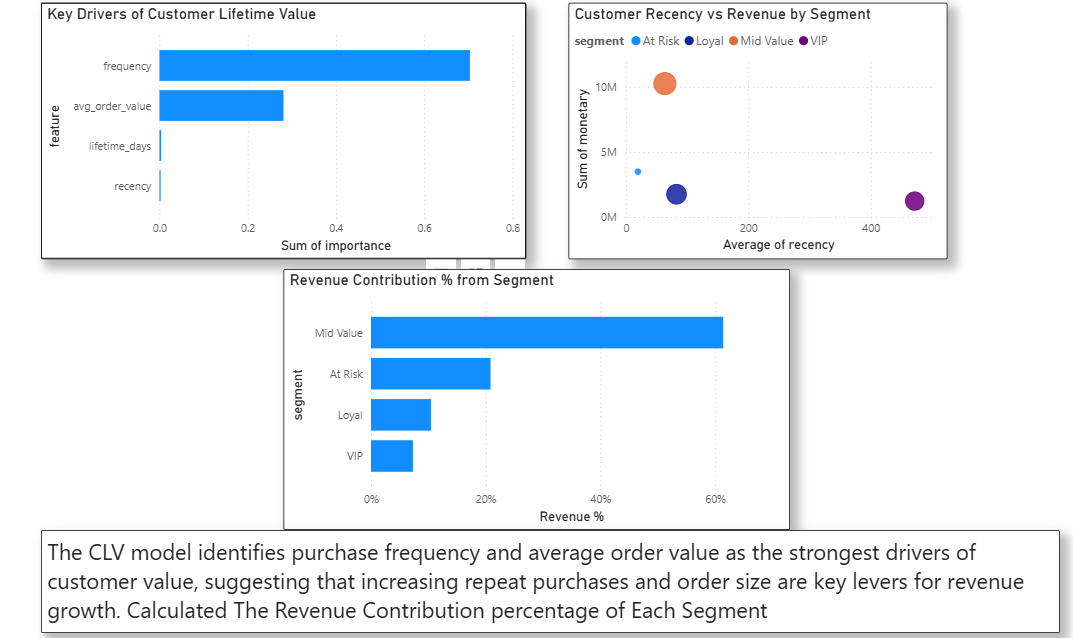

This screenshot's page, from the dashboard's own definition file:
{"tool":"powerbi","page":{"name":"CLV Insights","canvas":[1280,720],"ordinal":2},"visuals":[{"type":"clusteredBarChart","title":"Key Drivers of Customer Lifetime Value","fields":{"Category":["feature_importance.feature"],"Y":["Sum(feature_importance.importance)"]},"box":[60.4,15.1,532.4,281.3],"z":1000},{"type":"scatterChart","title":"Customer Recency vs Revenue by Segment","fields":{"X":["Avg(customer_segments.recency)"],"Y":["Sum(customer_segments.monetary)"],"Series":["customer_segments.segment"],"Size":["Sum(customer_segments.avg_order_value)"]},"box":[639.5,15.1,415.8,281.3],"z":2000},{"type":"barChart","title":"Revenue Contribution % from Segment","fields":{"Category":["customer_segments.segment"],"Y":["Sum(customer_segments.monetary)"]},"box":[326.6,307.4,555.7,286.8],"z":2001},{"type":"textbox","box":[60.4,594.2,1118.4,112.5],"z":2002}]}

Visuals, with their boxes on the page's 1280x720 design canvas (x1, y1, x2, y2). These are canvas units, not pixel positions in the 1073x638 screenshot, which may show the page scaled, cropped or inside an application window:
"Key Drivers of Customer Lifetime Value" clusteredBarChart: [60,15,593,296]
"Customer Recency vs Revenue by Segment" scatterChart: [640,15,1055,296]
"Revenue Contribution % from Segment" barChart: [327,307,882,594]
textbox: [60,594,1179,707]
